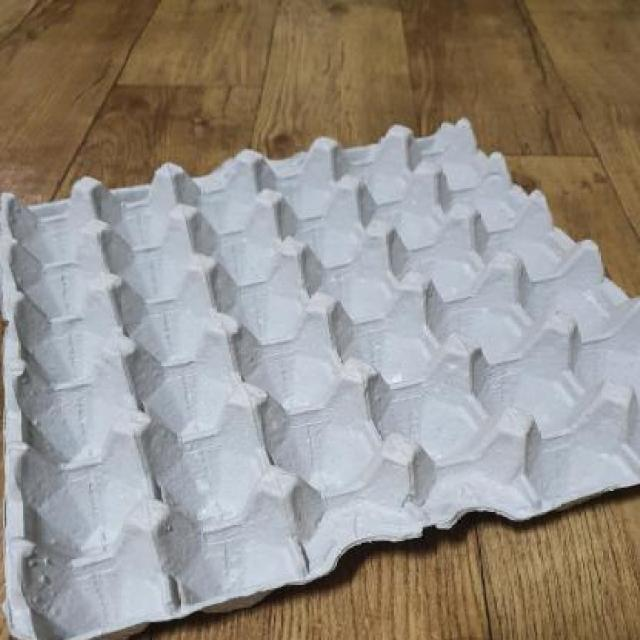box: (0, 107, 638, 640)
